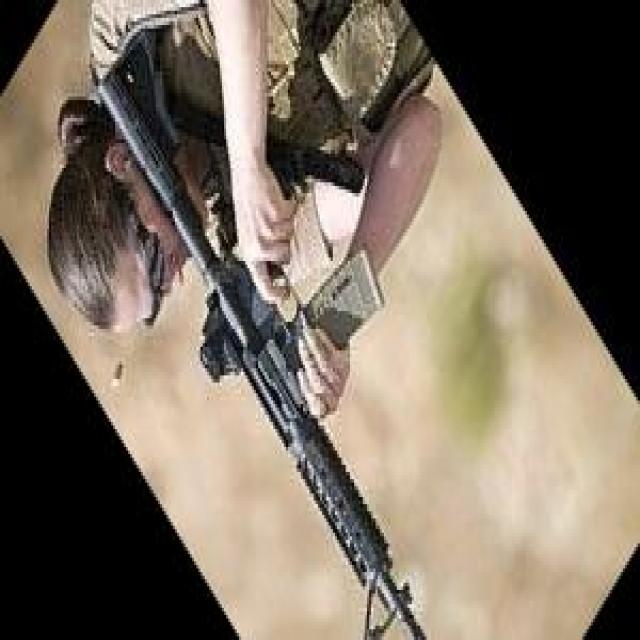weapon: (98, 27, 428, 640)
